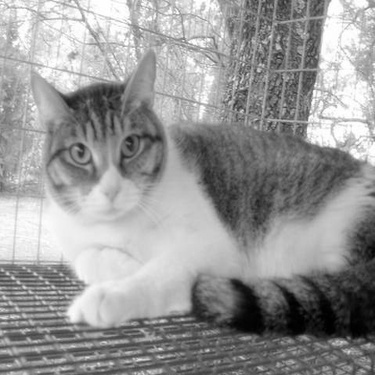cat: (1, 54, 365, 339)
